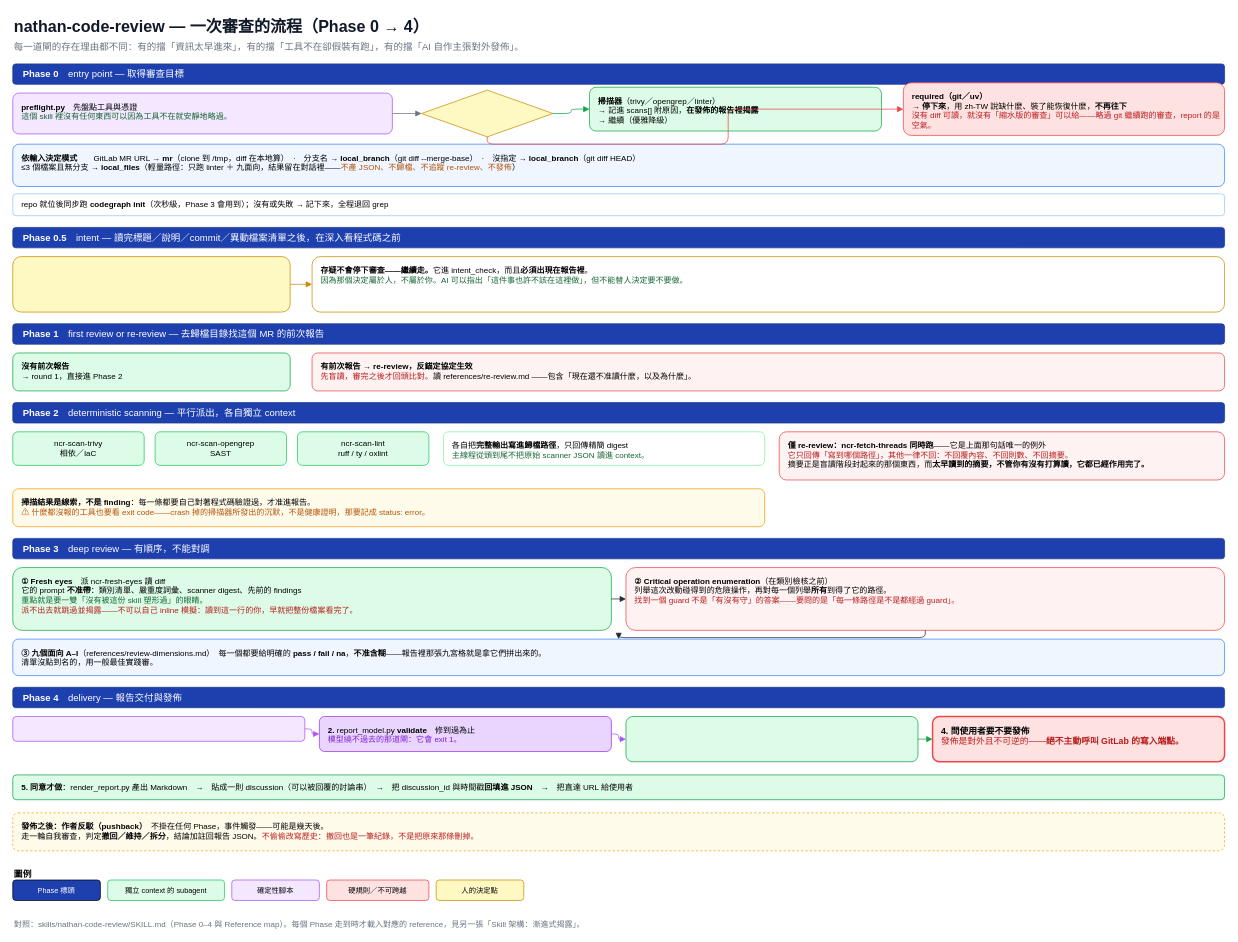
Image size: 1238x942. Some labels were removed from this diagram. Here are the shapes that lost their labels. From the top down, the centre of each, then its label:
At (487,113): "缺的是哪一種工具？".
At (151,284): "三題快問 1. 該不該做？ 2. 該在這個 MR 做？ 3. 該在這個時機做？".
At (158,728): "1. 把報告 JSON 寫進歸檔路徑".
At (771,739): "3. 派 ncr-quality-check 掃這份 JSON 唯讀，回傳違規清單；你來改，改完再 validate 一次 作者自己檢查自己的報告不算數。".
